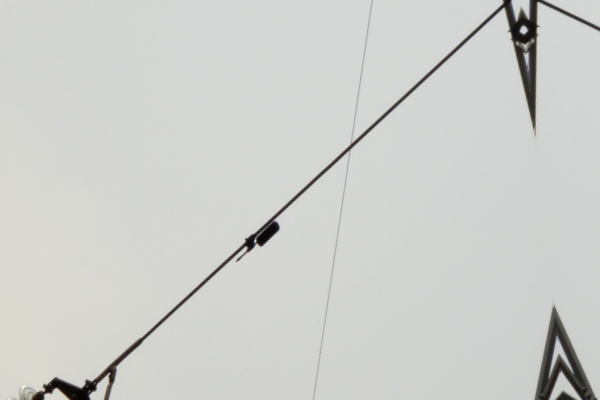damper_defect: (229, 220, 281, 265)
